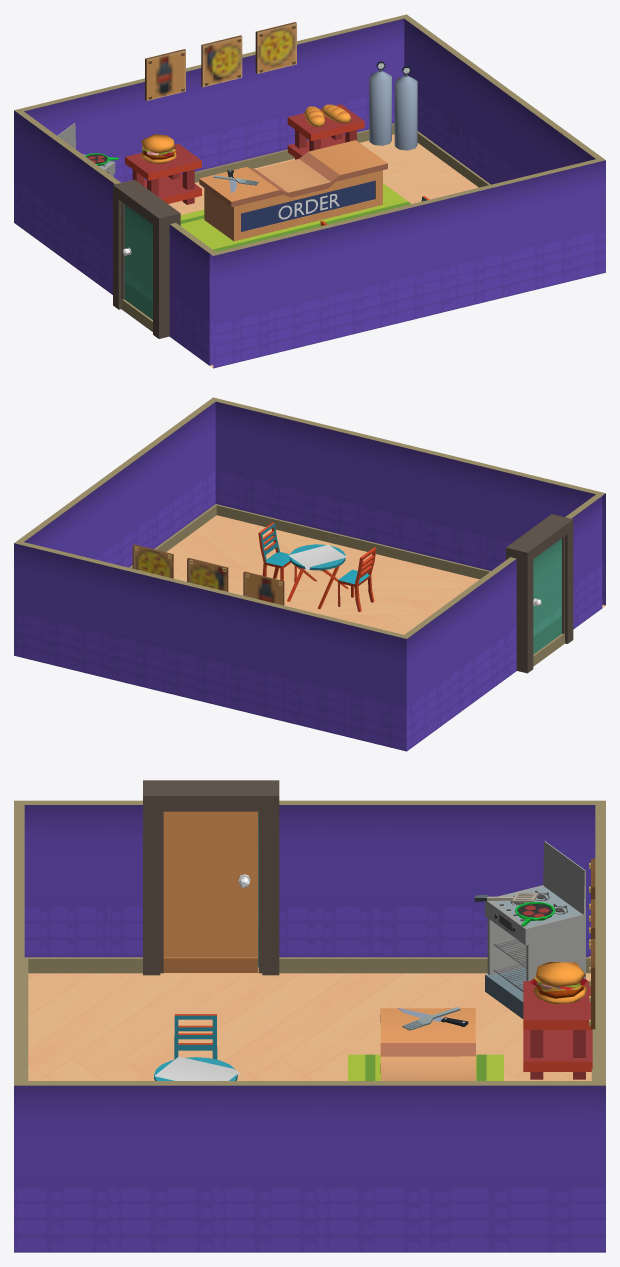
The model's file is Cafe.fbx.
3 views of the same model, one above another, from view 1: azimuth 30°, elevation 25°; view 2: azimuth 150°, elevation 25°; view 3: azimuth 270°, elevation 25° (orthographic). The views are drawn at different scales.
Visible parts, largest first — view 1: Cafe Walls, Counter Cafe Lvl 3, Menu Board, Cafe Door Boundary, Cafe Floor, Back Table Cafe.001, Cafe Cylinder, Cafe Wall Peice, Back Table Cafe, Plane, Cafe Oven; view 2: Cafe Walls, Cafe Floor, Cafe Door Boundary, Chair Table lvl 3, Menu Board, Cafe Wall Peice; view 3: Cafe Walls, Cafe Floor, Cafe Door, Cafe Door Boundary, Cafe Oven, Back Table Cafe.001, Counter Cafe Lvl 3, Chair Table lvl 3, Plane, Menu Board.
Part boxes in pixels (x1=…): Cafe Walls: x1=14, y1=14, x2=605, y2=368; Counter Cafe Lvl 3: x1=199, y1=140, x2=387, y2=241; Menu Board: x1=145, y1=22, x2=296, y2=100; Cafe Door Boundary: x1=113, y1=179, x2=180, y2=338; Cafe Floor: x1=168, y1=134, x2=478, y2=367; Back Table Cafe.001: x1=125, y1=134, x2=201, y2=204; Cafe Cylinder: x1=369, y1=61, x2=417, y2=150; Cafe Wall Peice: x1=121, y1=204, x2=152, y2=331; Back Table Cafe: x1=287, y1=104, x2=364, y2=159; Plane: x1=180, y1=183, x2=410, y2=251; Cafe Oven: x1=57, y1=123, x2=118, y2=176; Cafe Walls: x1=14, y1=397, x2=605, y2=751; Cafe Floor: x1=166, y1=515, x2=605, y2=634; Cafe Door Boundary: x1=506, y1=514, x2=573, y2=673; Chair Table lvl 3: x1=258, y1=522, x2=376, y2=611; Menu Board: x1=132, y1=544, x2=284, y2=605; Cafe Wall Peice: x1=533, y1=538, x2=564, y2=666; Cafe Walls: x1=14, y1=800, x2=605, y2=1252; Cafe Floor: x1=28, y1=967, x2=591, y2=1080; Cafe Door: x1=163, y1=811, x2=257, y2=972; Cafe Door Boundary: x1=143, y1=780, x2=279, y2=975; Cafe Oven: x1=474, y1=841, x2=585, y2=1018; Back Table Cafe.001: x1=523, y1=962, x2=592, y2=1079; Counter Cafe Lvl 3: x1=380, y1=1007, x2=475, y2=1080; Chair Table lvl 3: x1=154, y1=1014, x2=240, y2=1080; Plane: x1=348, y1=1054, x2=503, y2=1080; Menu Board: x1=589, y1=858, x2=595, y2=1029.
Size of the model in its own units: 8.92 by 2.87 by 7.6.
